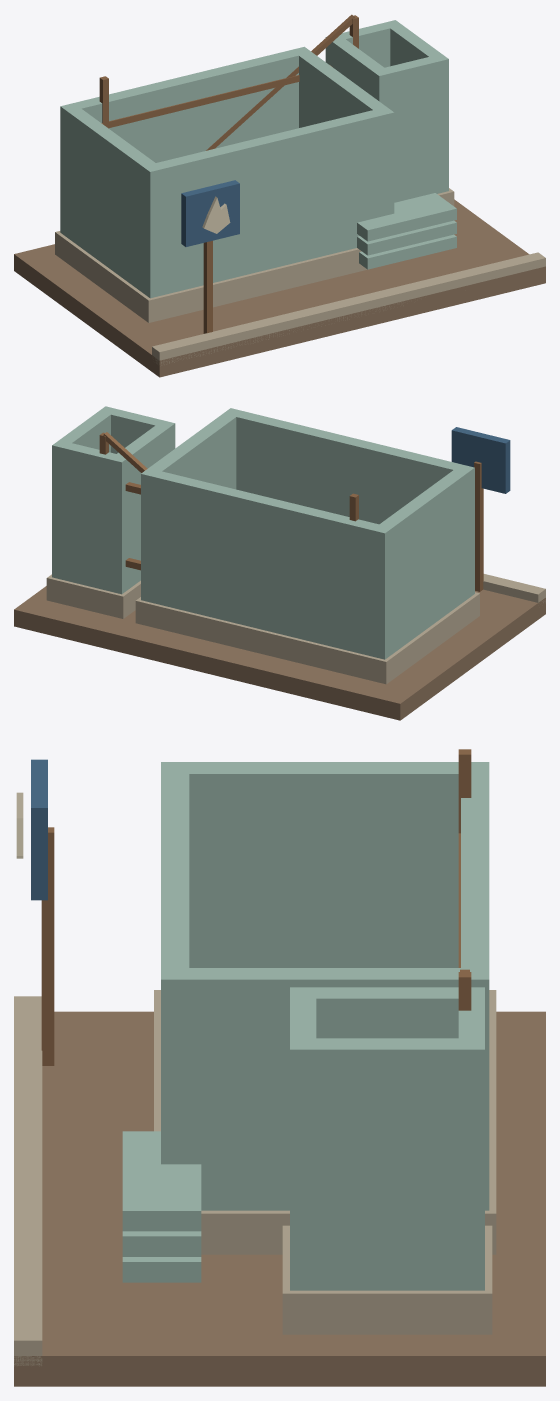
Rendered from fire-station-seabreeze-half-built.glb.
The picture shows the model from 3 angles, top to bottom: view 1: azimuth 30°, elevation 25°; view 2: azimuth 150°, elevation 25°; view 3: azimuth 270°, elevation 25°; orthographic projection. The views are drawn at different scales.
Parts seen in each view (by area): view 1: fire-station; view 2: fire-station; view 3: fire-station.
Part boxes in pixels (x1,y1,x2,y2): fire-station: (14, 14, 545, 377); fire-station: (14, 406, 545, 720); fire-station: (14, 749, 545, 1386).
Bounding box in the file's own units: 2.88 × 1.38 × 1.88.
